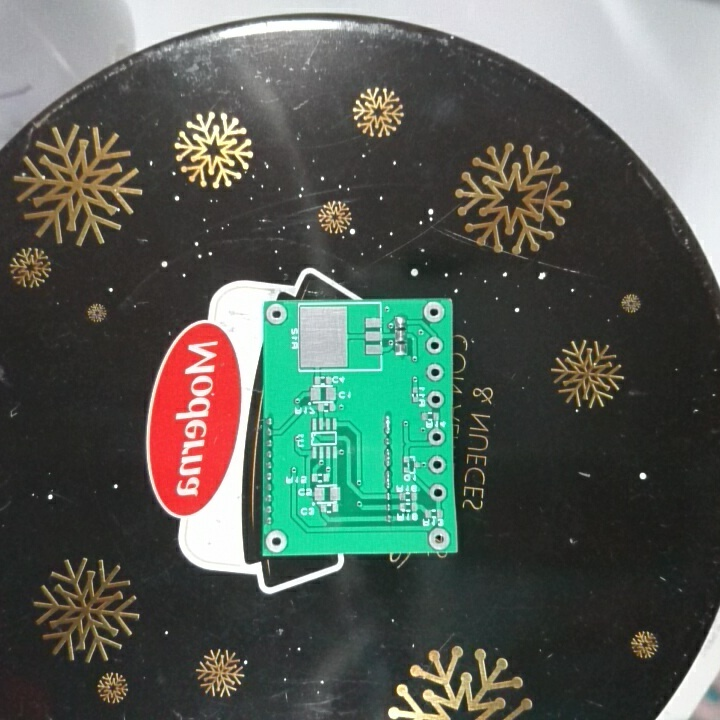F: (427, 525, 453, 551), (263, 529, 289, 554), (264, 303, 289, 327), (421, 300, 445, 324), (425, 388, 448, 411), (427, 482, 448, 504), (423, 362, 444, 383), (427, 426, 446, 449), (425, 334, 445, 355), (427, 454, 447, 475)
P: (382, 468, 394, 492), (382, 412, 394, 435), (382, 447, 394, 469)
